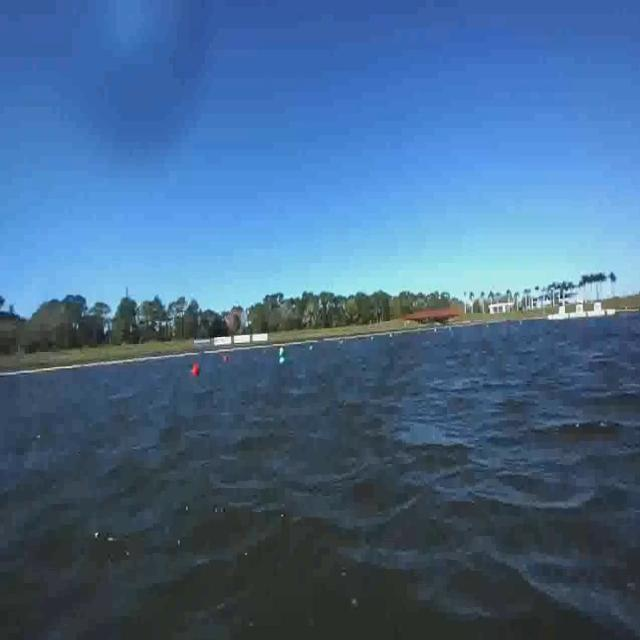green-buoy: (278, 350, 288, 371)
red-buoy: (191, 362, 199, 377)
